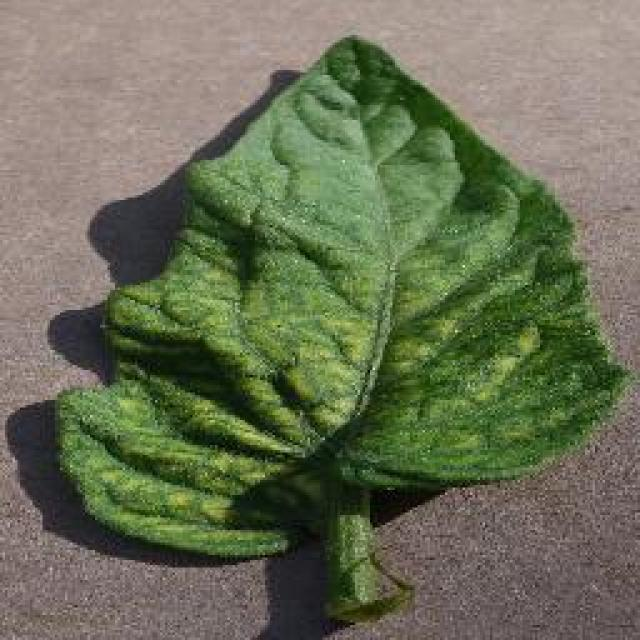Tomato yellow virus leaf: (51, 32, 621, 560)
